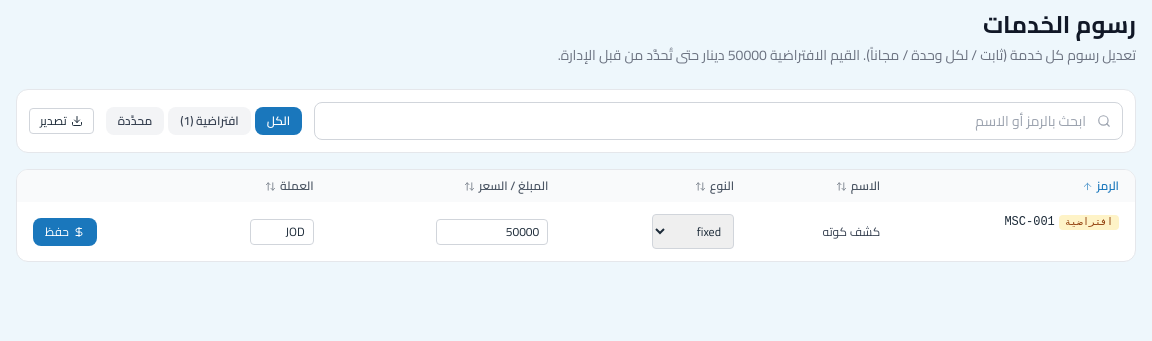
Scenario: ServiceFeesAdmin (JORD-85) › refuses per_unit without a basis (client-side check)
The width and height of the screenshot is (1152, 341).
Expected: the row with test id "fee-row-3" is shown, 17,202 -> 1135,261
Select "per_unit" in the dropdown with test id "fee-type-3": (693, 232) 652,214 -> 734,249
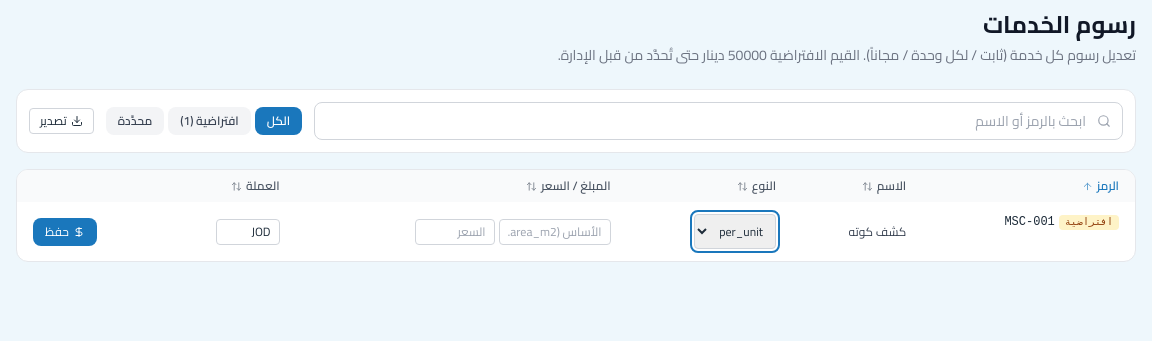
# Leave basis and rate empty.
Click the button with test id "fee-save-3": click(65, 232) 33,218 -> 97,246
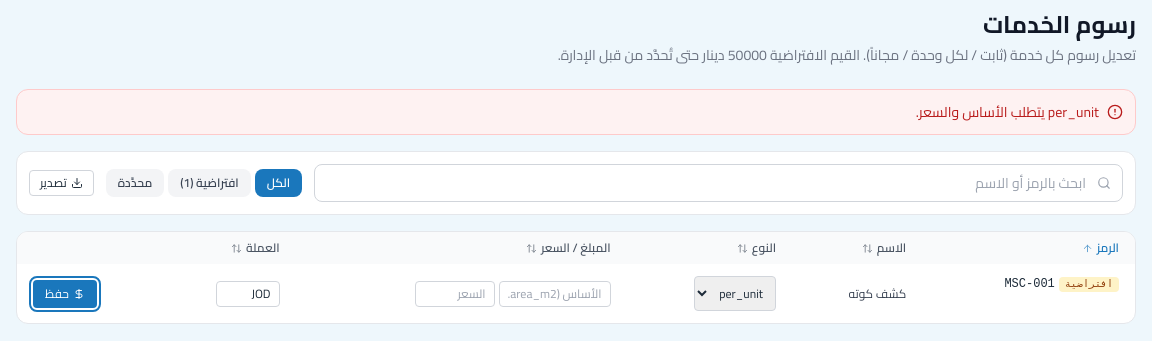
Expected: the message reads "per_unit يتطلب الأساس والسعر.", 916,99 -> 1099,125
